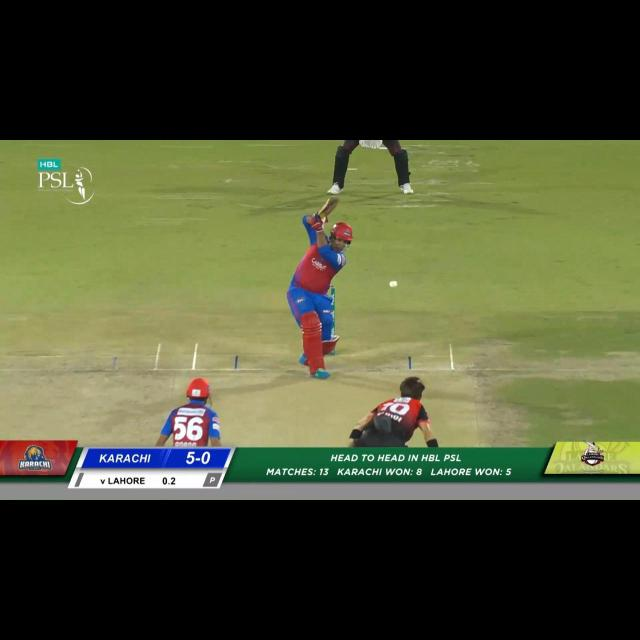bat: (317, 197, 341, 220)
toe: (325, 196, 340, 203)
